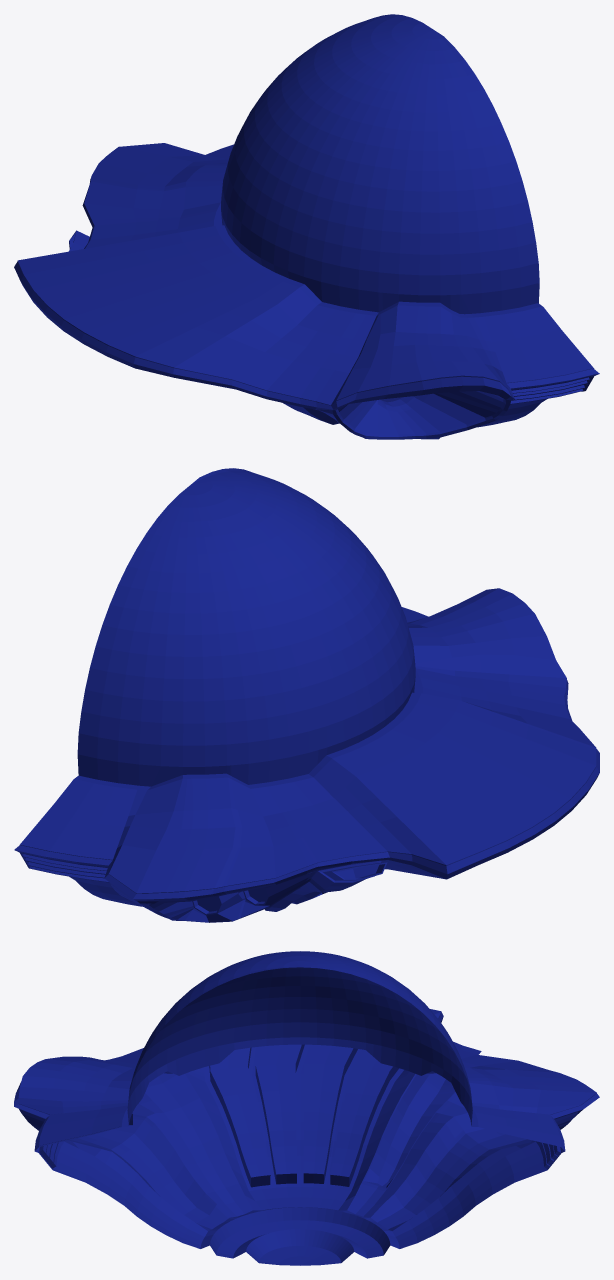
The model's file is ship.glb.
The picture shows the model from 3 angles, top to bottom: view 1: azimuth 30°, elevation 25°; view 2: azimuth 150°, elevation 25°; view 3: azimuth 270°, elevation 25°; orthographic projection. The views are drawn at different scales.
Visible parts, largest first — view 1: Sphere; view 2: Sphere; view 3: Sphere.
Part boxes in pixels (x1,y1,x2,y2): Sphere: (14, 14, 599, 439); Sphere: (14, 468, 599, 922); Sphere: (14, 951, 599, 1265).
Size of the model in its own units: 1.94 by 1.89 by 3.36.
Materials: 1 (1 with a texture image).
